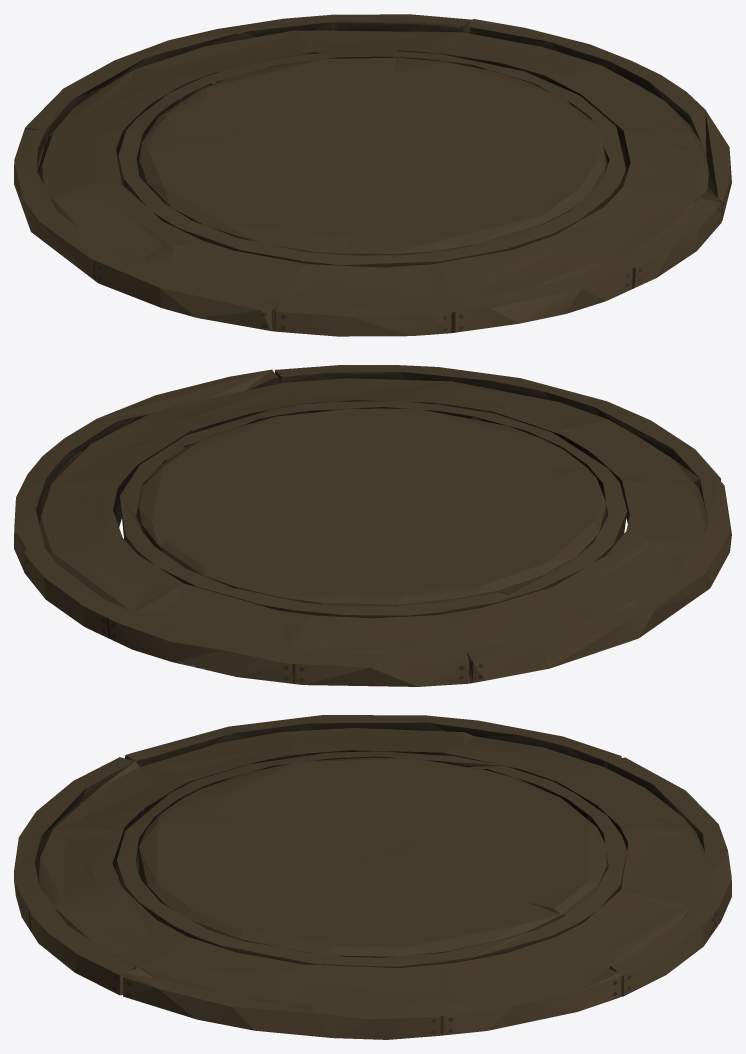
The model's file is kolco-svetilnik.glb.
3 renders of one model, top to bottom at view 1: azimuth 30°, elevation 25°; view 2: azimuth 150°, elevation 25°; view 3: azimuth 270°, elevation 25°, orthographic.
Visible parts, largest first — view 1: kolco-svetilnik; view 2: kolco-svetilnik; view 3: kolco-svetilnik.
Boxes of the visible parts, left/top/right/bottom form: kolco-svetilnik: left=14, top=14, right=731, bottom=336; kolco-svetilnik: left=14, top=365, right=731, bottom=686; kolco-svetilnik: left=14, top=715, right=731, bottom=1039.
Bounding box in the file's own units: 3.2 × 0.2 × 3.2.
Materials: 1 (1 with a texture image).
